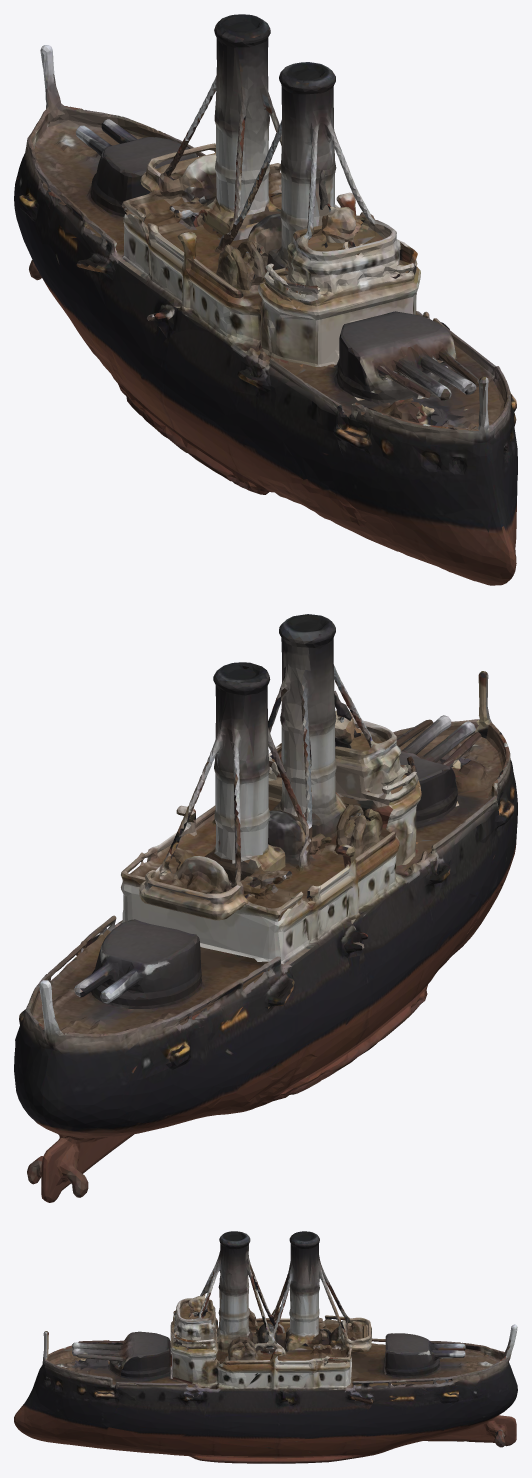
File: ironclad_devastation.glb
3 renders of one model, top to bottom at view 1: azimuth 30°, elevation 25°; view 2: azimuth 150°, elevation 25°; view 3: azimuth 270°, elevation 25°, orthographic. The views are drawn at different scales.
Visible parts, largest first — view 1: HullBody; view 2: HullBody; view 3: HullBody.
Part boxes in pixels (<box>): HullBody: <box>14,14,517,585</box>; HullBody: <box>14,614,517,1202</box>; HullBody: <box>14,1231,517,1463</box>.
Bounding box in the file's own units: 33.18 × 57.4 × 125.
1 material, 1 textured.
